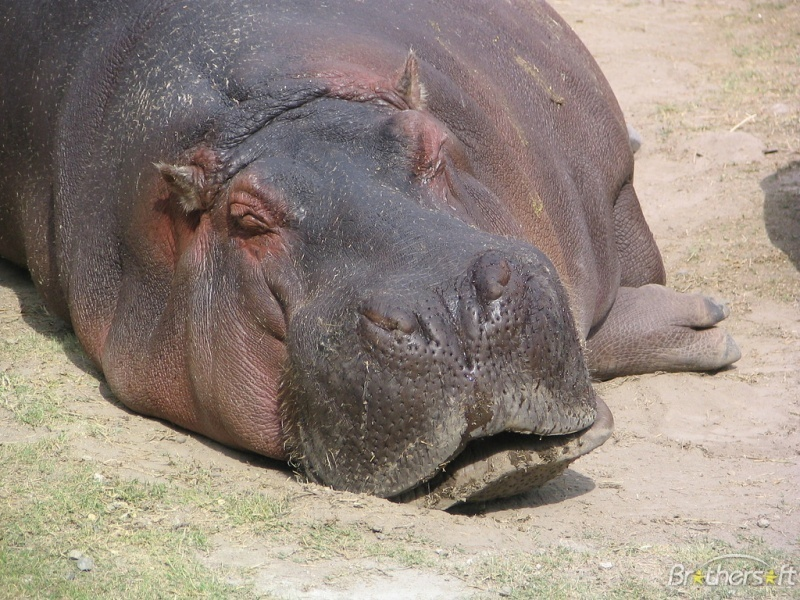hipopotamo: (1, 2, 760, 529)
